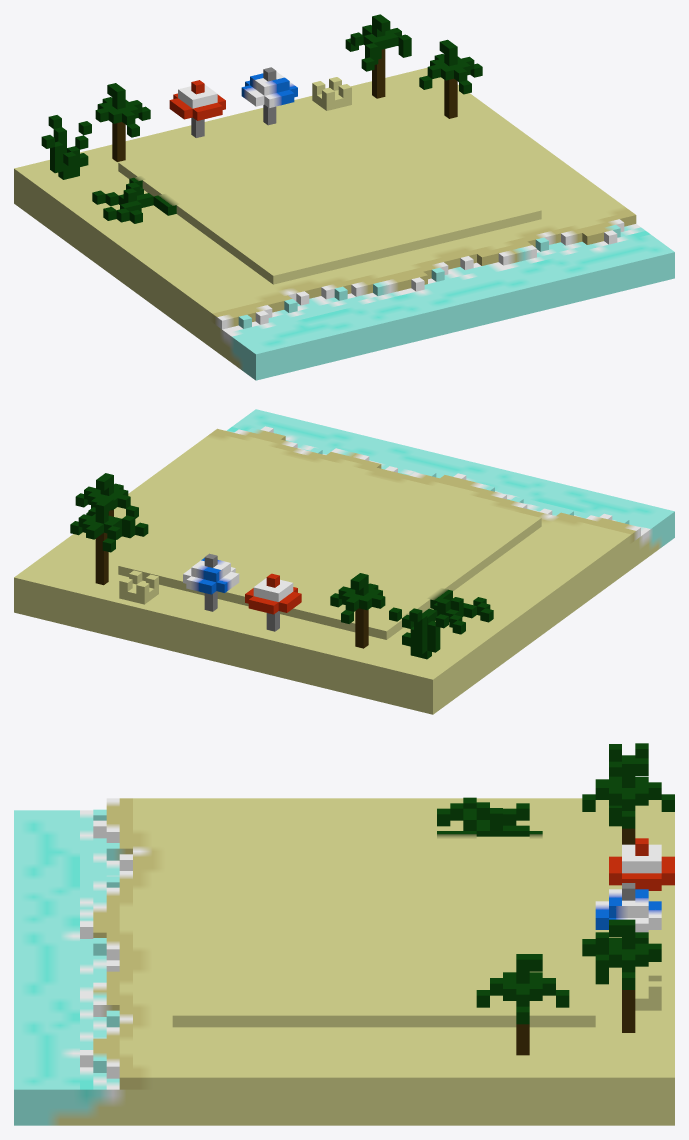
Rendered from MiniWorld_Beach.fbx.
The picture shows the model from 3 angles, top to bottom: view 1: azimuth 30°, elevation 25°; view 2: azimuth 150°, elevation 25°; view 3: azimuth 270°, elevation 25°; orthographic projection. The views are drawn at different scales.
Visible parts, largest first — view 1: Matrix_1; view 2: Matrix_1; view 3: Matrix_1.
Boxes of the visible parts, box(x1,y1,x2,y2) form: Matrix_1: box(14, 14, 674, 380); Matrix_1: box(14, 409, 674, 714); Matrix_1: box(14, 743, 674, 1125).
Size of the model in its own units: 50 by 13 by 50.
